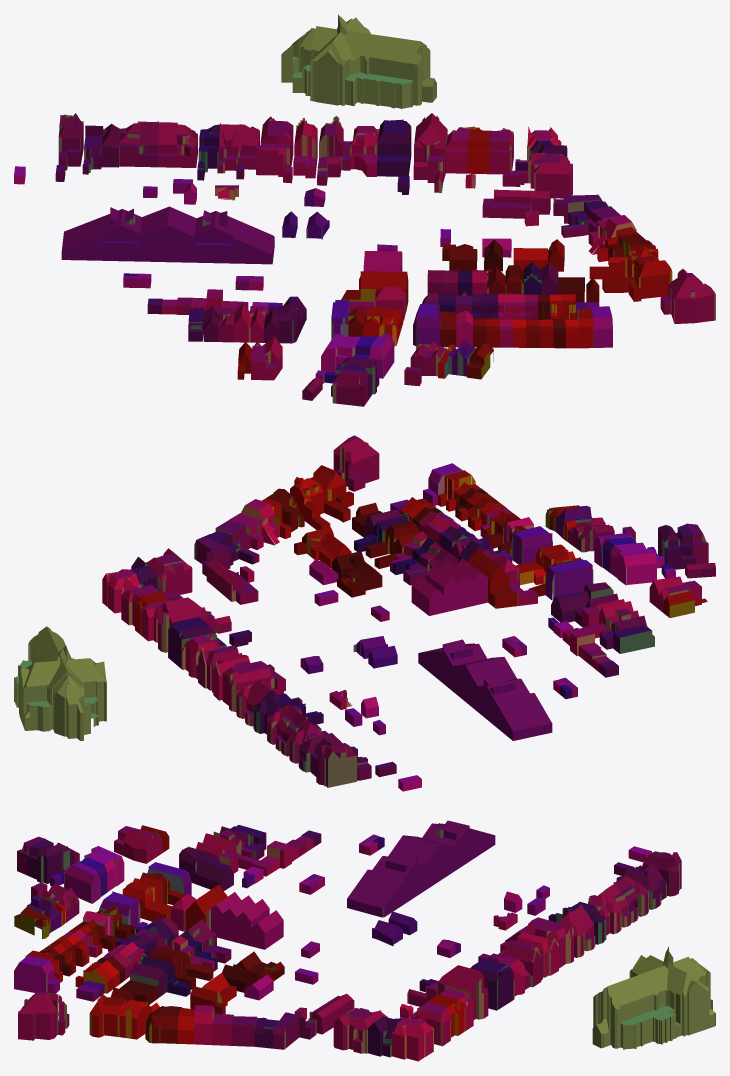
Rendered from buildings_6_10.glb.
The picture shows the model from 3 angles, top to bottom: view 1: azimuth 30°, elevation 25°; view 2: azimuth 150°, elevation 25°; view 3: azimuth 270°, elevation 25°; orthographic projection. The views are drawn at different scales.
Parts seen in each view (by area): view 1: buildings_6_10; view 2: buildings_6_10; view 3: buildings_6_10.
Part boxes in pixels (x1,y1,x2,y2): buildings_6_10: [14, 14, 715, 406]; buildings_6_10: [14, 435, 715, 791]; buildings_6_10: [14, 820, 715, 1061].
Bounding box in the file's own units: 170 × 25.14 × 222.
